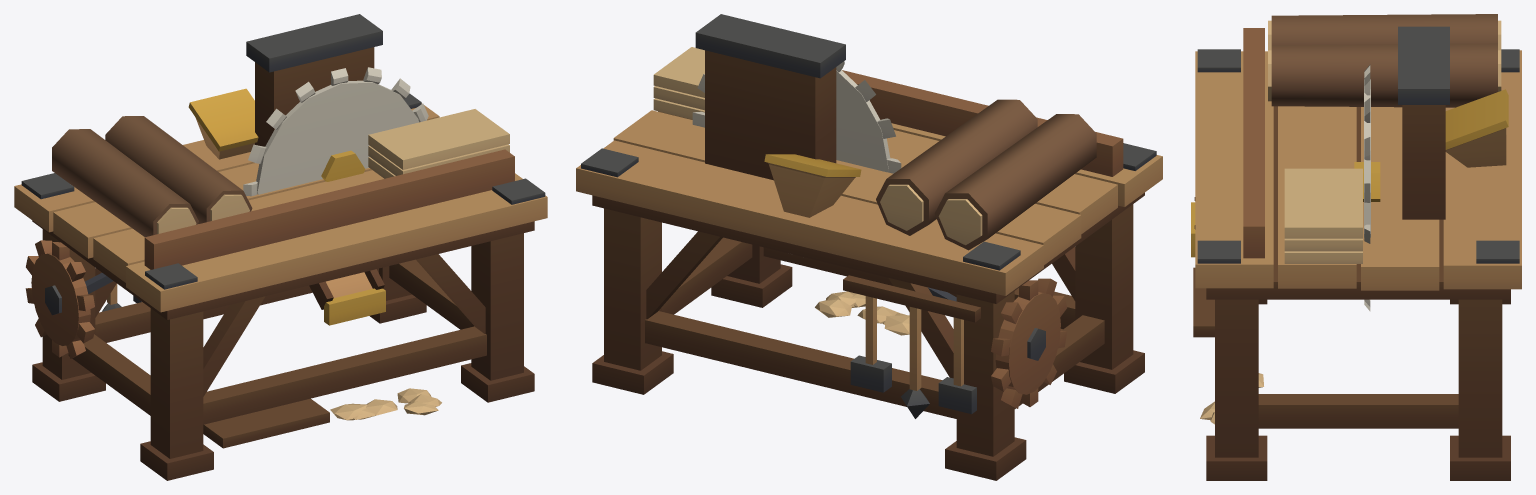
File: mach_saw.glb
3 renders of one model, left to right at view 1: azimuth 30°, elevation 25°; view 2: azimuth 150°, elevation 25°; view 3: azimuth 270°, elevation 25°, orthographic. The views are drawn at different scales.
Visible parts, largest first — view 1: mach_saw; view 2: mach_saw; view 3: mach_saw.
Part boxes in pixels (x1,y1,x2,y2): mach_saw: [14, 14, 547, 480]; mach_saw: [576, 14, 1162, 480]; mach_saw: [1191, 14, 1521, 480].
Bounding box in the file's own units: 5.89 × 4.5 × 3.8.
Materials: 1 (1 with a texture image).
